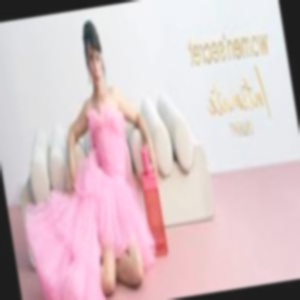women_secret: (117, 10, 300, 30)
